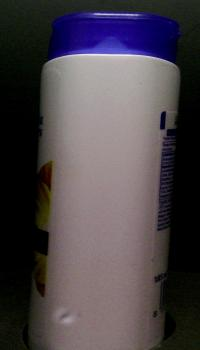dent_unacceptable: (38, 302, 90, 332)
